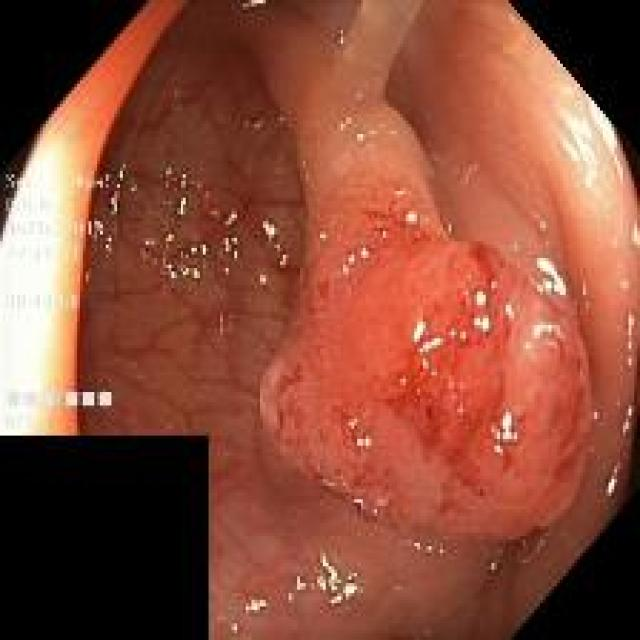Polyps: (260, 6, 590, 539)
